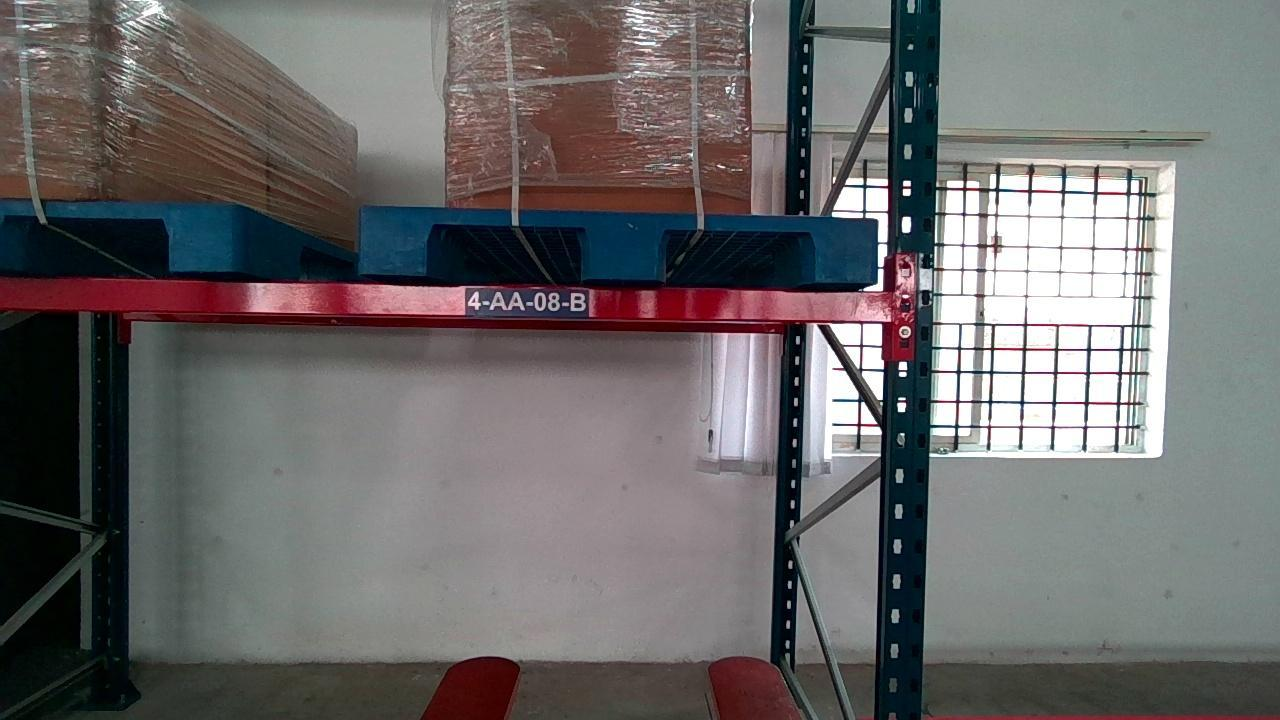h_rack: (1, 275, 893, 320)
small_pallet: (361, 201, 877, 280)
